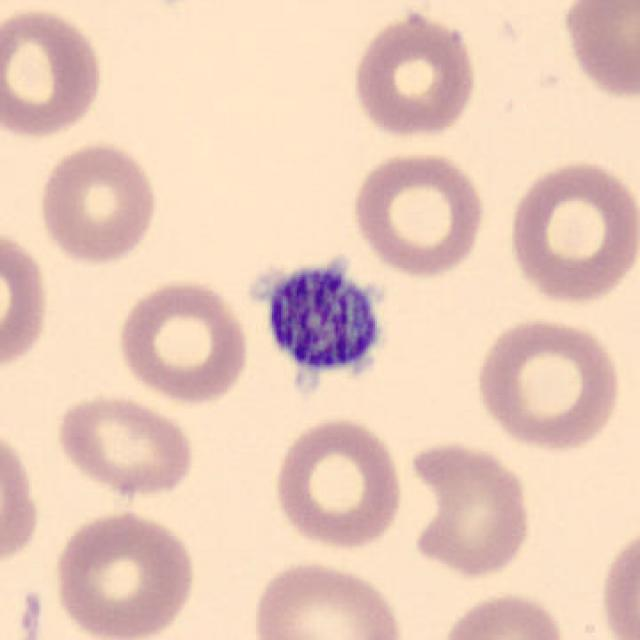Platelets: (249, 245, 389, 400)
RBC: (471, 312, 626, 453), (503, 154, 638, 308), (48, 506, 199, 640), (269, 414, 407, 552), (402, 437, 535, 580), (347, 147, 489, 280), (346, 7, 482, 143), (112, 275, 252, 407), (34, 138, 162, 268), (51, 390, 198, 500), (0, 4, 107, 141), (247, 557, 411, 640), (556, 0, 638, 104), (0, 222, 52, 379), (0, 419, 44, 576), (437, 589, 571, 640), (595, 518, 640, 639)
